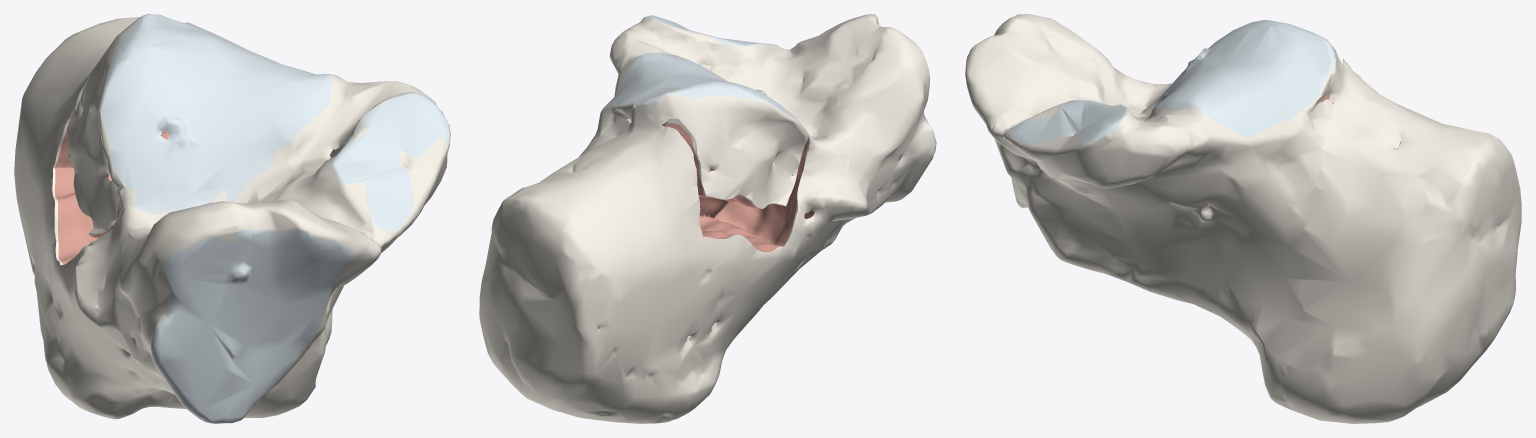
Rendered from G-2A-AC_elderly.glb.
The picture shows the model from 3 angles, left to right: view 1: azimuth 30°, elevation 25°; view 2: azimuth 150°, elevation 25°; view 3: azimuth 270°, elevation 25°; orthographic projection. The views are drawn at different scales.
Parts seen in each view (by area): view 1: calcaneus: sustentacular fragment, calcaneus: tuberosity, calcaneus: central anterior process (zones B) fragment, calcaneus: anterolateral (zone A) fragment, calcaneus: depressed lateral joint fragment; view 2: calcaneus: tuberosity, calcaneus: depressed lateral joint fragment, calcaneus: anterolateral (zone A) fragment, calcaneus: central anterior process (zones B) fragment, calcaneus: sustentacular fragment; view 3: calcaneus: tuberosity, calcaneus: sustentacular fragment, calcaneus: central anterior process (zones B) fragment, calcaneus: anterolateral (zone A) fragment, calcaneus: depressed lateral joint fragment.
Part boxes in pixels (bbox=[...]): calcaneus: sustentacular fragment: bbox=[142, 14, 450, 261]; calcaneus: tuberosity: bbox=[14, 17, 332, 419]; calcaneus: central anterior process (zones B) fragment: bbox=[220, 139, 378, 423]; calcaneus: anterolateral (zone A) fragment: bbox=[96, 201, 236, 423]; calcaneus: depressed lateral joint fragment: bbox=[67, 14, 212, 238]; calcaneus: tuberosity: bbox=[479, 100, 867, 423]; calcaneus: depressed lateral joint fragment: bbox=[657, 81, 808, 208]; calcaneus: anterolateral (zone A) fragment: bbox=[810, 28, 936, 248]; calcaneus: central anterior process (zones B) fragment: bbox=[711, 14, 894, 251]; calcaneus: sustentacular fragment: bbox=[588, 15, 788, 328]; calcaneus: tuberosity: bbox=[1140, 49, 1521, 423]; calcaneus: sustentacular fragment: bbox=[990, 27, 1336, 407]; calcaneus: central anterior process (zones B) fragment: bbox=[965, 18, 1143, 276]; calcaneus: anterolateral (zone A) fragment: bbox=[999, 14, 1151, 126]; calcaneus: depressed lateral joint fragment: bbox=[1159, 20, 1337, 102].
Size of the model in its own units: 0.0475 by 0.0513 by 0.0757.
